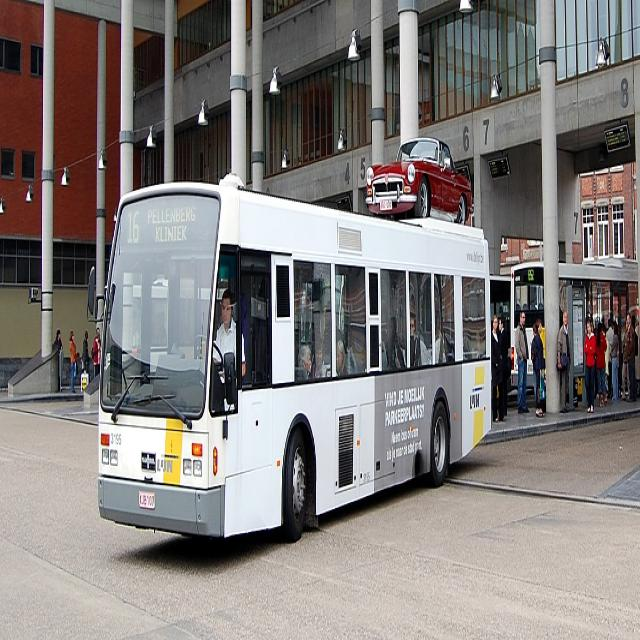bus-number: (127, 206, 141, 248)
